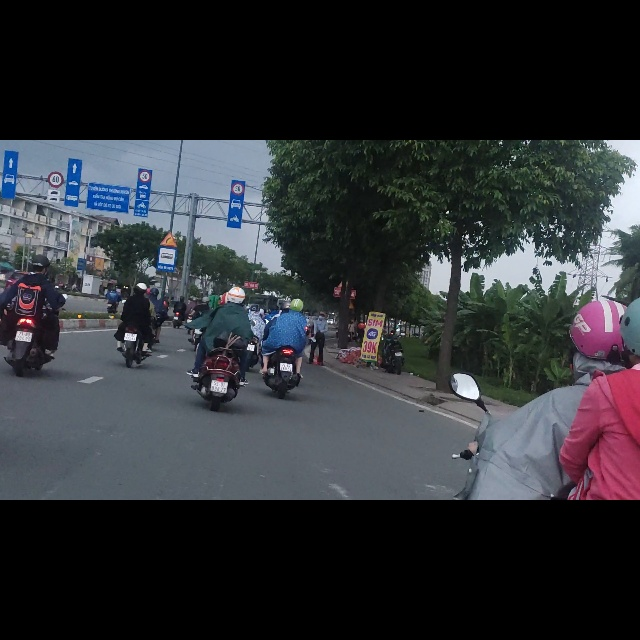bien_nguy_hiem: (156, 190, 177, 235), (159, 163, 178, 191), (48, 56, 64, 84), (47, 88, 60, 111), (232, 75, 244, 98), (139, 53, 151, 76)
